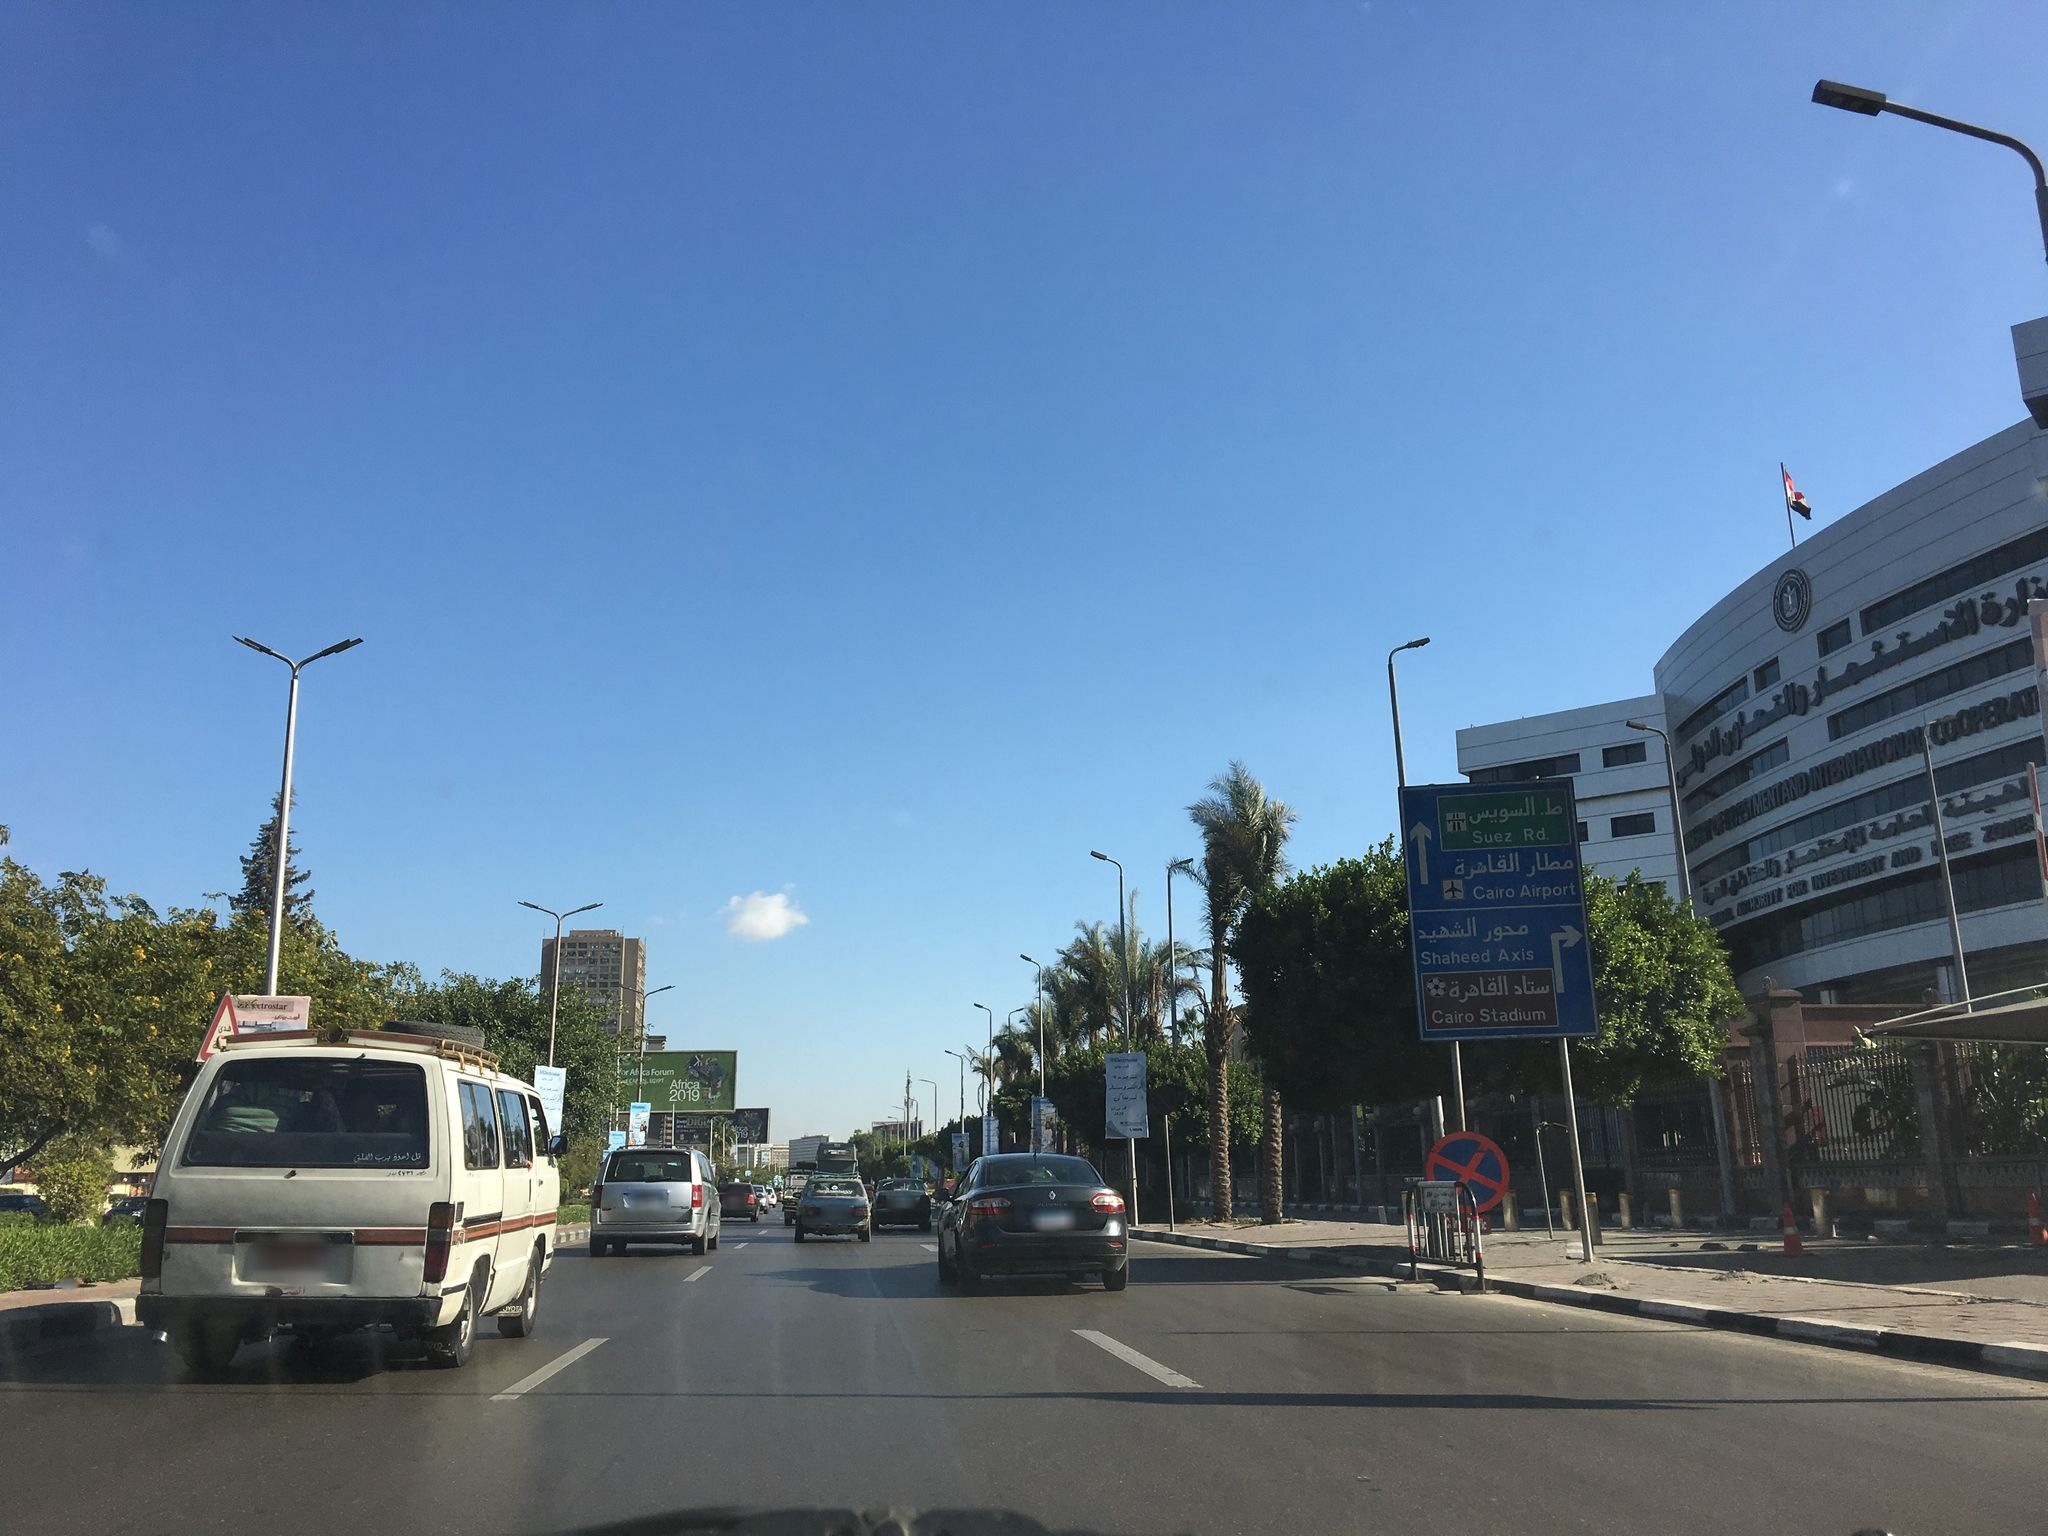car: (132, 1023, 568, 1368), (930, 1149, 1132, 1291), (585, 1142, 722, 1255), (790, 1170, 872, 1242), (869, 1176, 934, 1231), (719, 1179, 761, 1221), (750, 1183, 769, 1213), (764, 1186, 777, 1208)
truck: (782, 1167, 810, 1225)
